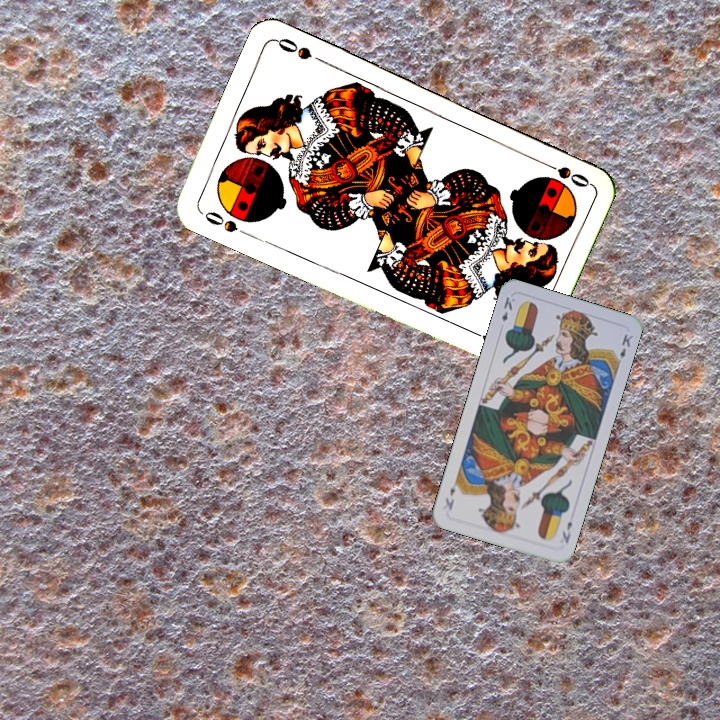EK: (498, 293, 518, 324), (558, 517, 575, 546)
SO: (536, 157, 592, 190), (197, 207, 240, 235)
